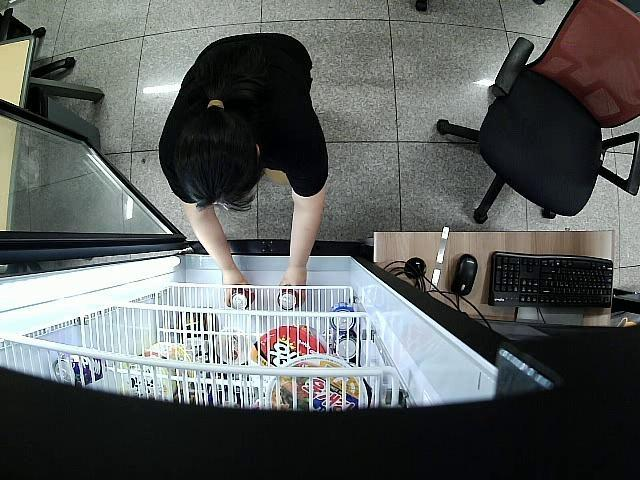11_cocaColaZero: (278, 288, 300, 310), (230, 290, 254, 310)
